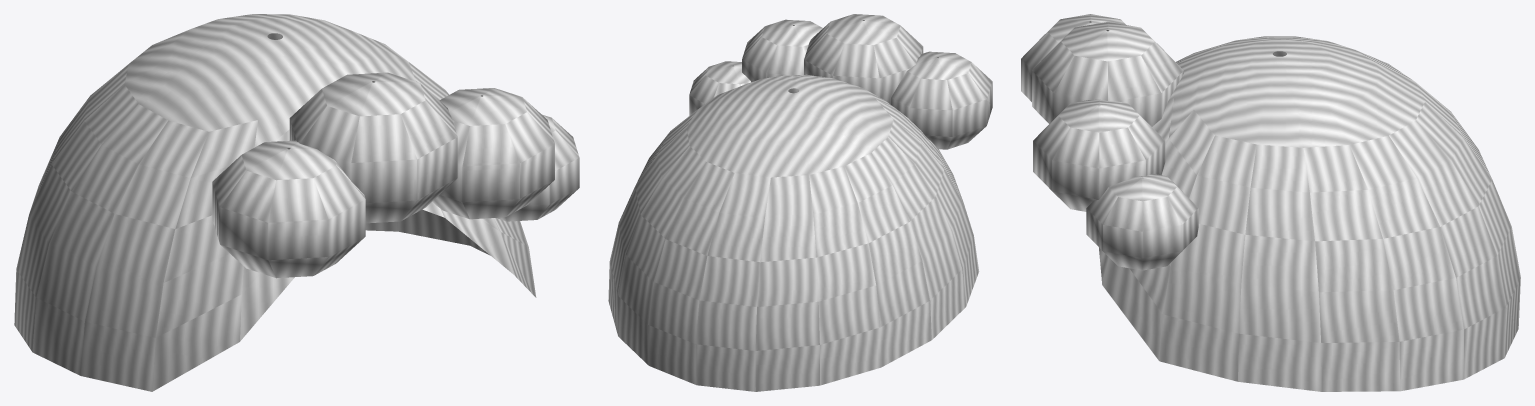
The model's file is hair_short.glb.
3 views of the same model, side by side, from view 1: azimuth 30°, elevation 25°; view 2: azimuth 150°, elevation 25°; view 3: azimuth 270°, elevation 25° (orthographic). The views are drawn at different scales.
Visible parts, largest first — view 1: hair_short; view 2: hair_short; view 3: hair_short.
Part boxes in pixels (bbox=[...]): hair_short: bbox=[14, 14, 579, 391]; hair_short: bbox=[608, 14, 992, 391]; hair_short: bbox=[1021, 14, 1520, 391].
Size of the model in its own units: 0.2544 by 0.1894 by 0.2876.
Materials: 1 (1 with a texture image).
